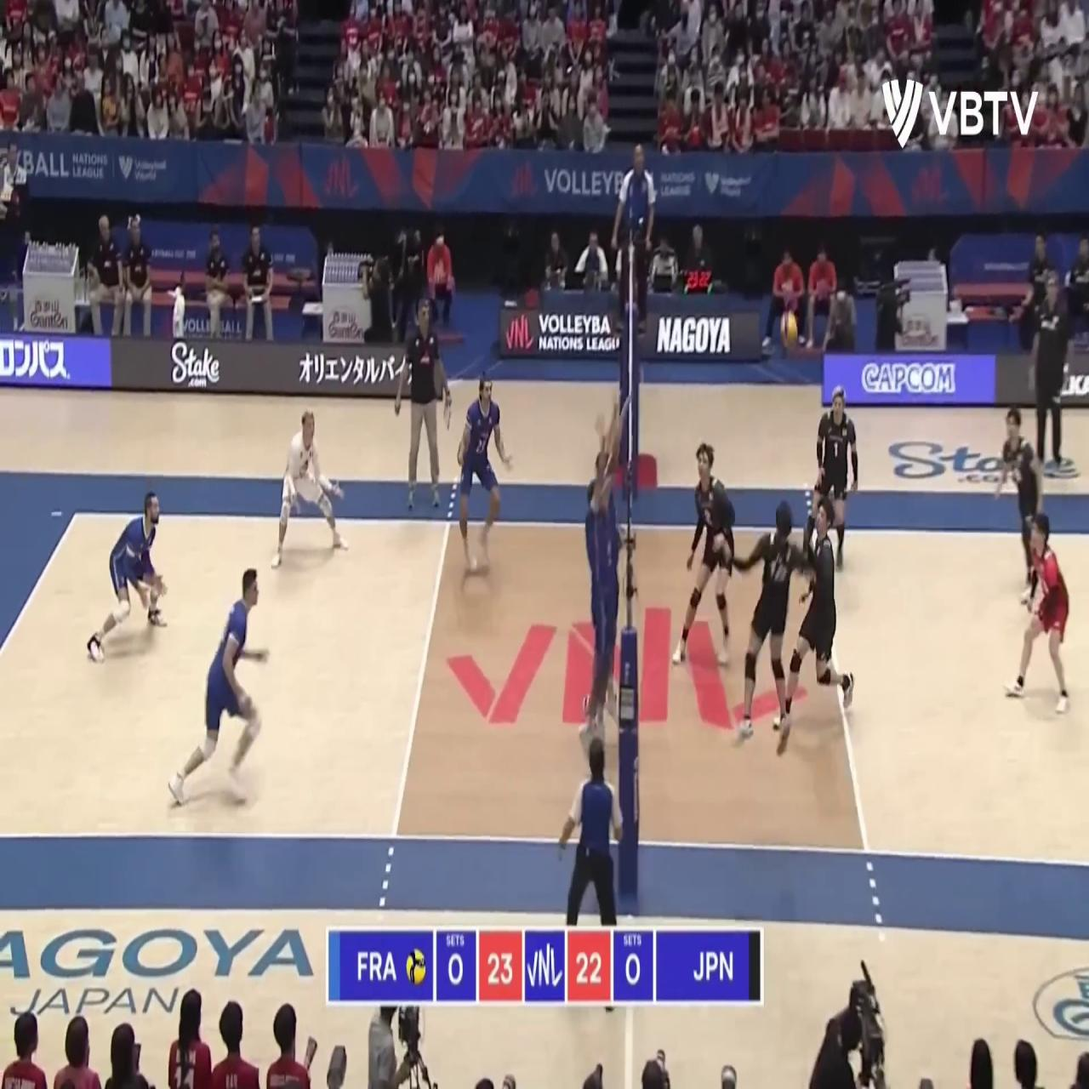ball: (779, 311, 799, 353)
